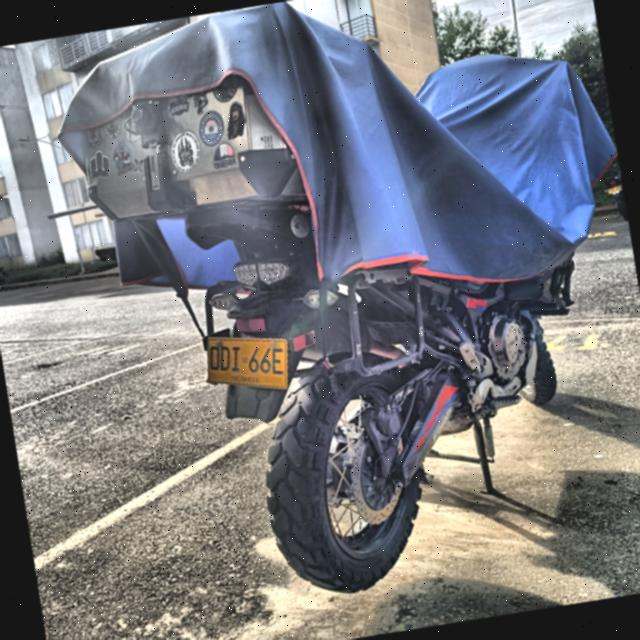6: (259, 346, 272, 376), (248, 346, 261, 375)
D: (219, 343, 231, 374)
E: (272, 347, 284, 377)
I: (231, 344, 241, 374)
O: (209, 345, 220, 372)
